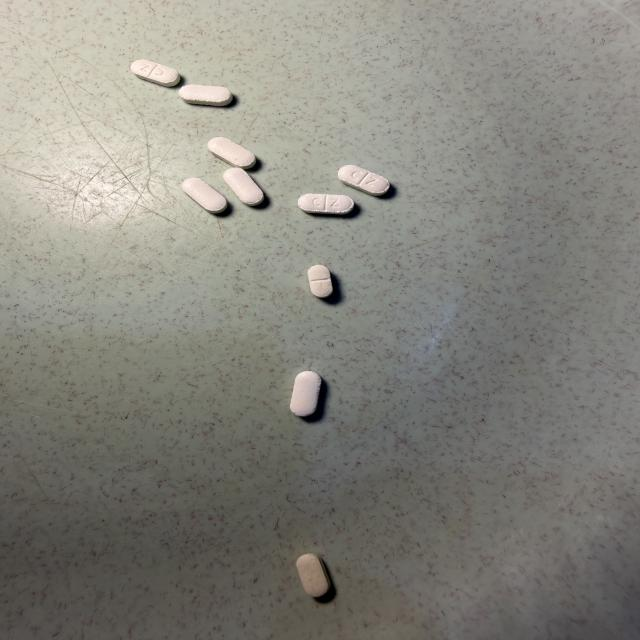pill: (338, 165, 389, 196), (182, 178, 227, 213), (208, 137, 256, 169), (223, 168, 263, 205), (297, 554, 330, 597), (290, 371, 321, 416), (131, 60, 180, 86), (298, 194, 354, 214), (179, 85, 232, 106), (308, 265, 332, 297)
